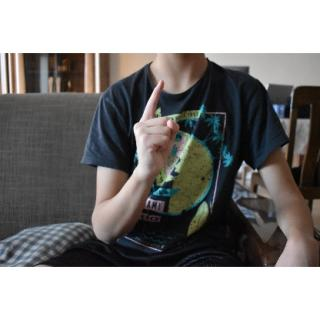RAA: (131, 76, 184, 184)
